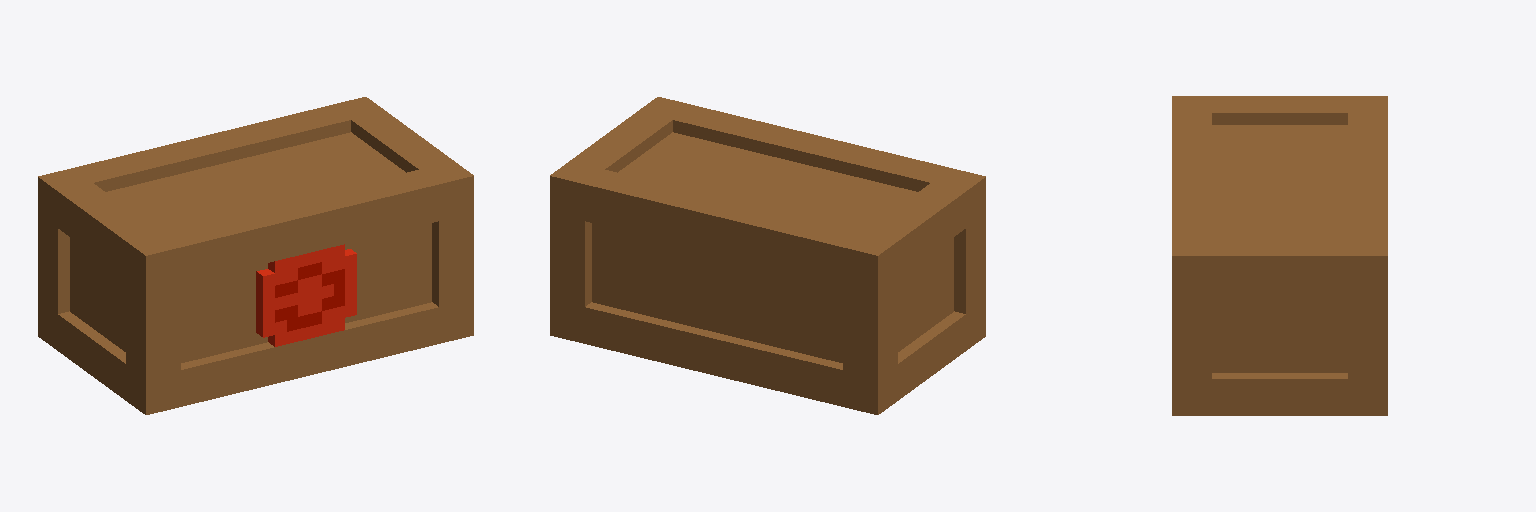
3 views of the same model, side by side, from view 1: azimuth 30°, elevation 25°; view 2: azimuth 150°, elevation 25°; view 3: azimuth 270°, elevation 25° (orthographic).
Parts seen in each view (by area): view 1: object 1; view 2: object 1; view 3: object 1.
Boxes of the visible parts, <box> form: object 1: <box>38,97,473,414</box>; object 1: <box>550,97,985,414</box>; object 1: <box>1172,96,1387,415</box>.
Bounding box in the file's own units: 2.8 × 1.3 × 1.6.
Materials: 1 (1 with a texture image).